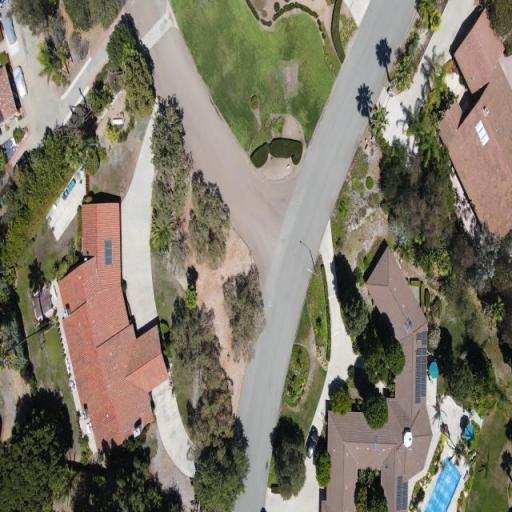solar-panel: (415, 356, 427, 404), (396, 476, 408, 511), (404, 316, 413, 334), (416, 331, 427, 345), (416, 348, 427, 355), (374, 435, 378, 451)
